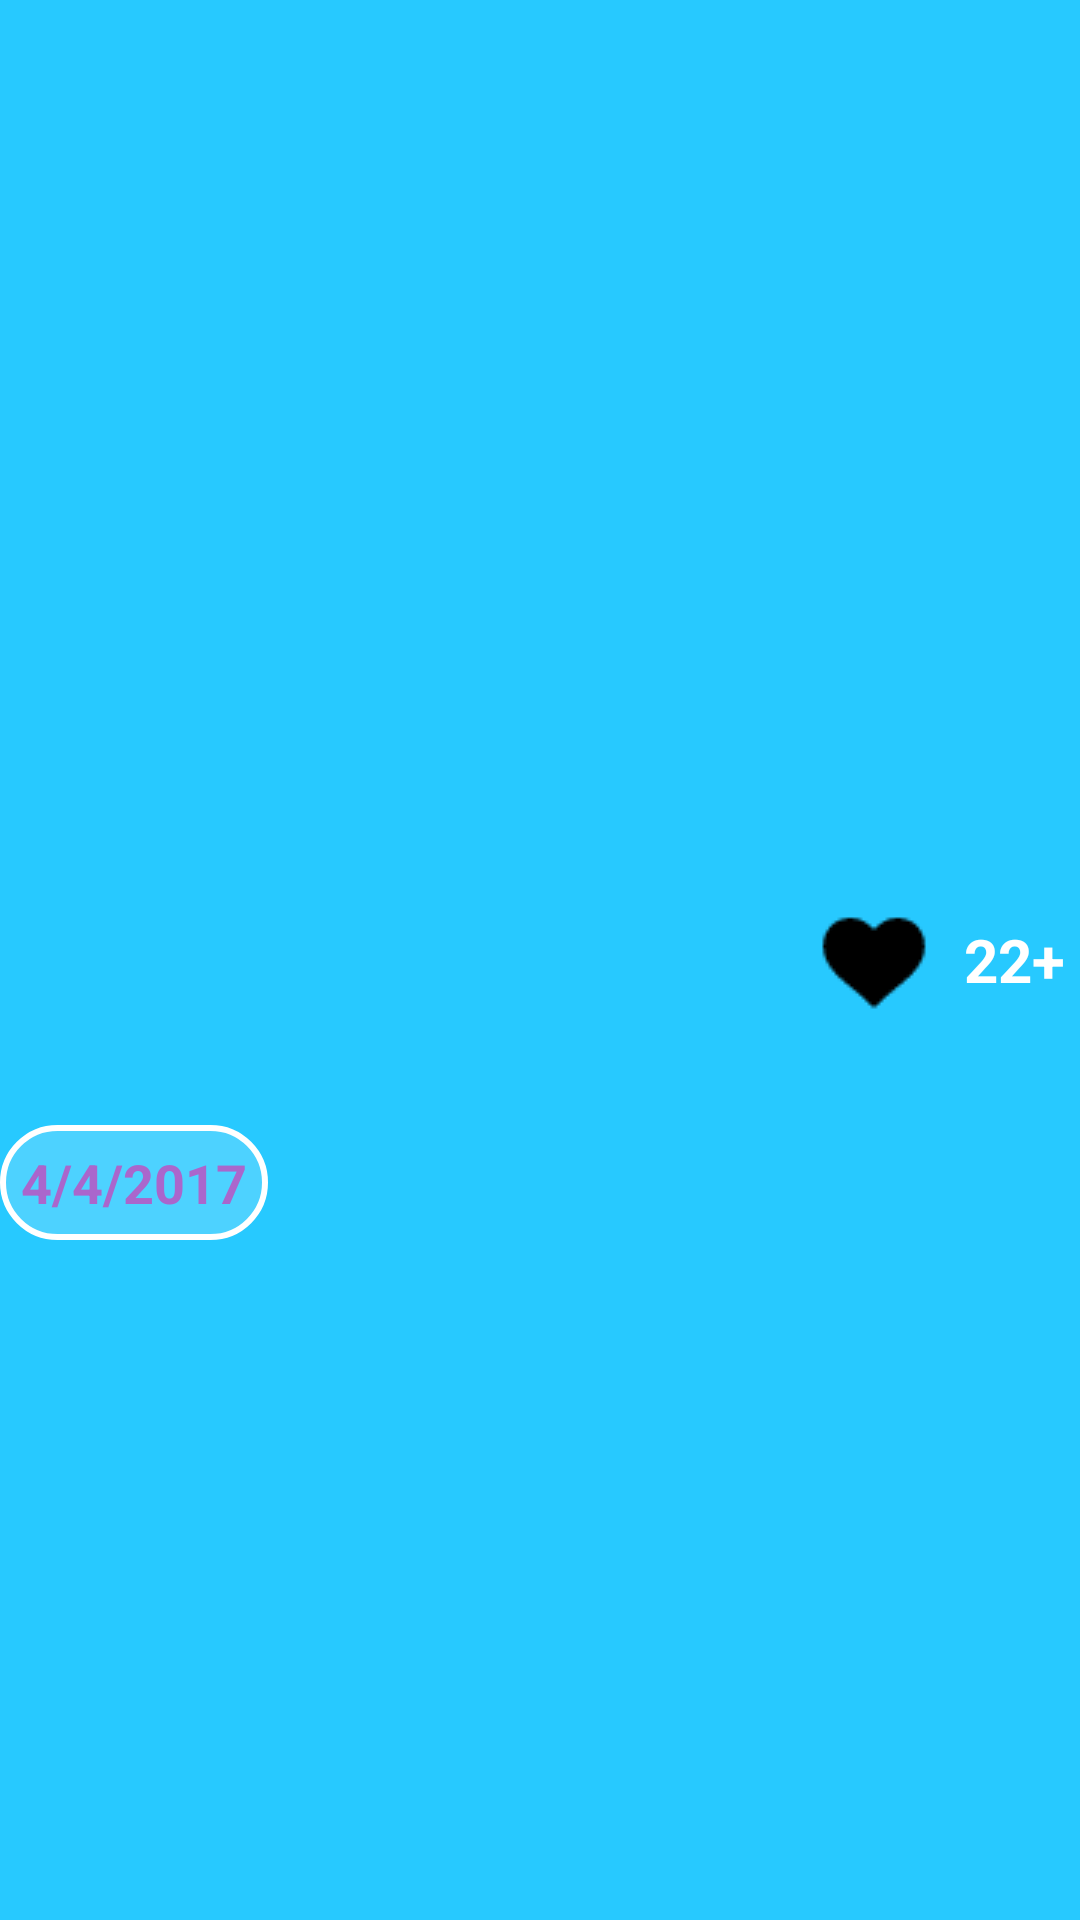

Named icons in this screenshot (1080 × 1920) and their centers, (x,y):
like: (874,963)
